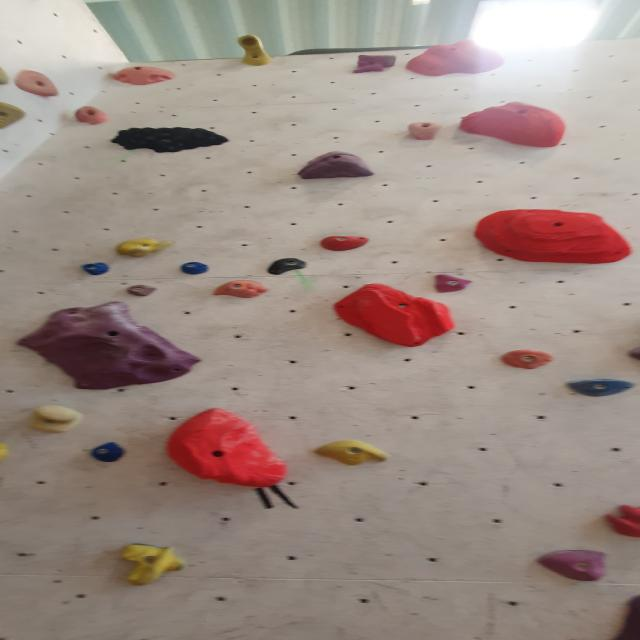Crimp: (21, 300, 204, 392), (468, 207, 637, 265), (532, 546, 612, 584), (310, 438, 396, 468), (558, 377, 640, 399), (495, 348, 557, 372), (85, 442, 132, 466), (351, 52, 396, 75), (317, 235, 374, 253), (433, 272, 475, 295), (172, 261, 212, 279), (76, 263, 116, 279), (125, 283, 159, 298)
Jug: (112, 540, 194, 582), (110, 126, 231, 150), (231, 29, 285, 69), (24, 402, 86, 436), (13, 69, 64, 101), (71, 104, 114, 130), (0, 98, 28, 135)
Pinch: (327, 280, 458, 348), (115, 234, 178, 257), (406, 119, 446, 141)
Pocket: (601, 504, 640, 540)
Sloper: (162, 406, 291, 486), (455, 103, 569, 151), (400, 40, 506, 81), (294, 149, 379, 181), (100, 62, 181, 86), (209, 280, 271, 301)
